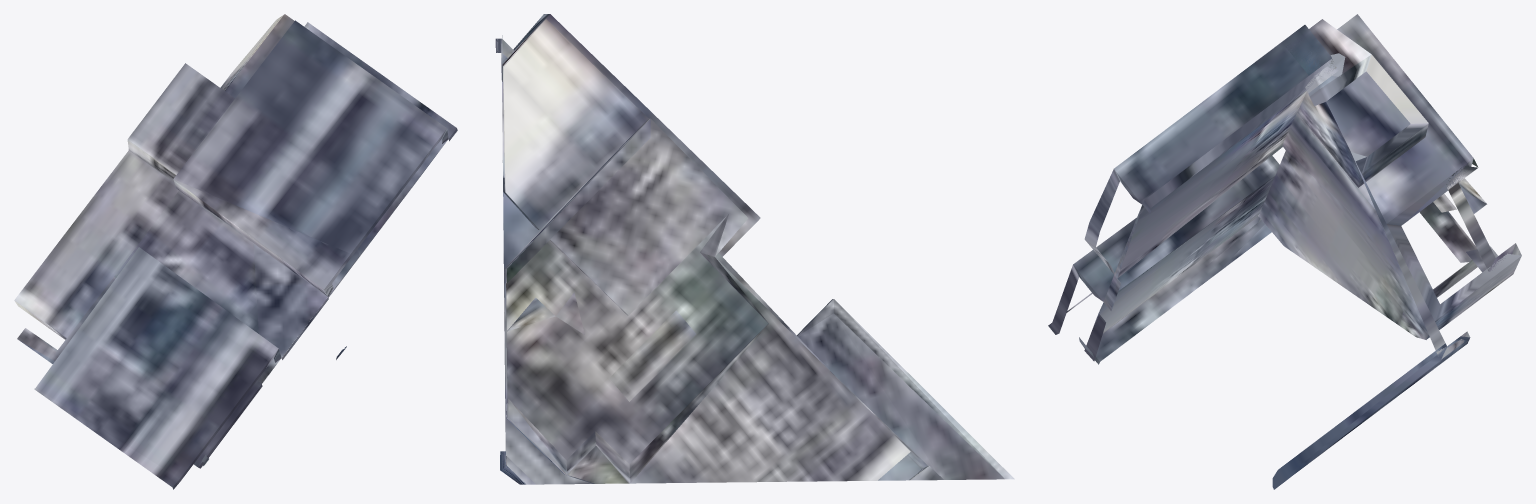
The picture shows the model from 3 angles, left to right: view 1: azimuth 30°, elevation 25°; view 2: azimuth 150°, elevation 25°; view 3: azimuth 270°, elevation 25°; orthographic projection. The views are drawn at different scales.
Size of the model in its own units: 21.14 by 17.75 by 16.87.
1 material, 1 textured.
